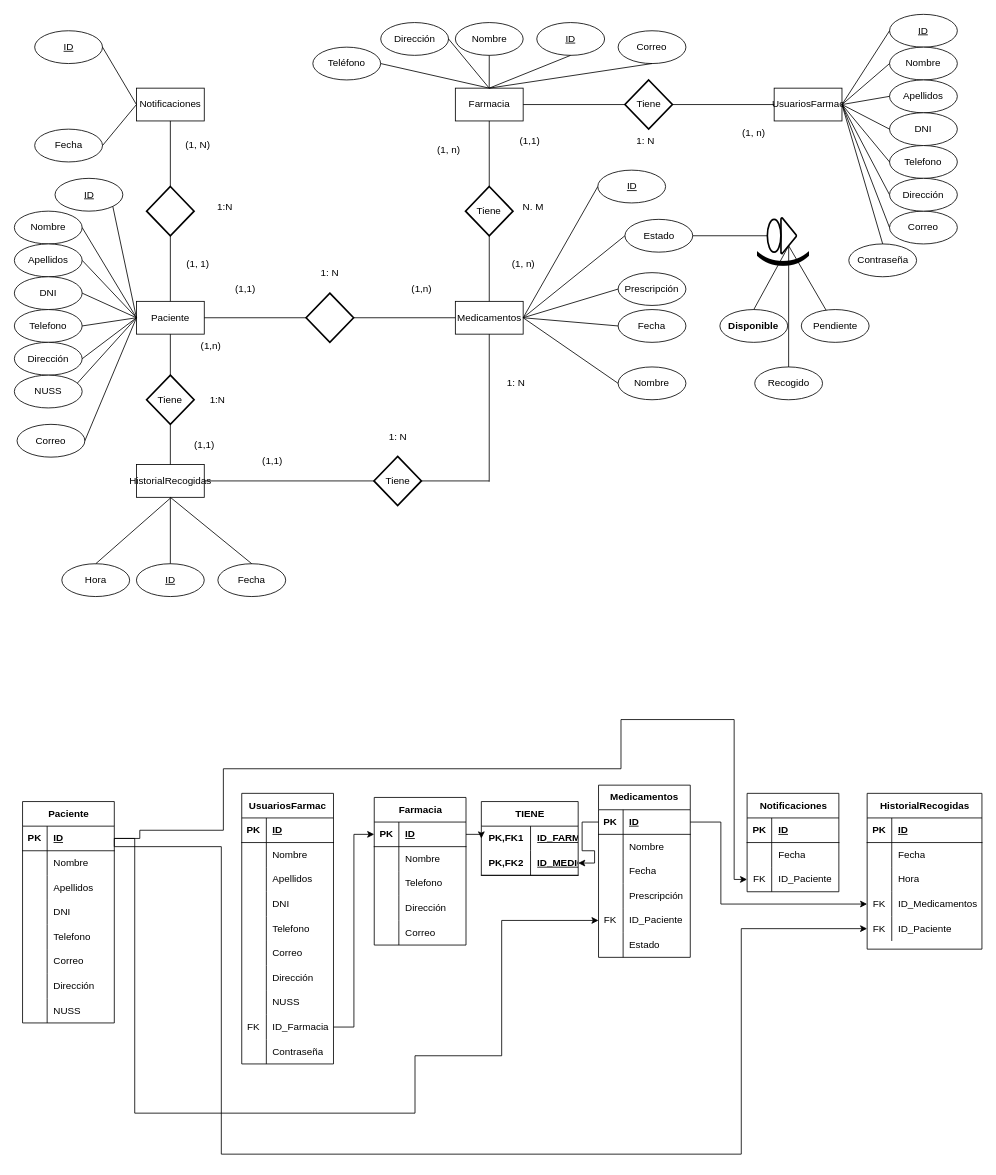
This 996x1175 diagram has some shape labels left out. Here are the shapes that lost their labels. From the top down, the box of each, then its label:
(145, 185, 195, 236): Recibe
(305, 292, 354, 343): Vinculado
